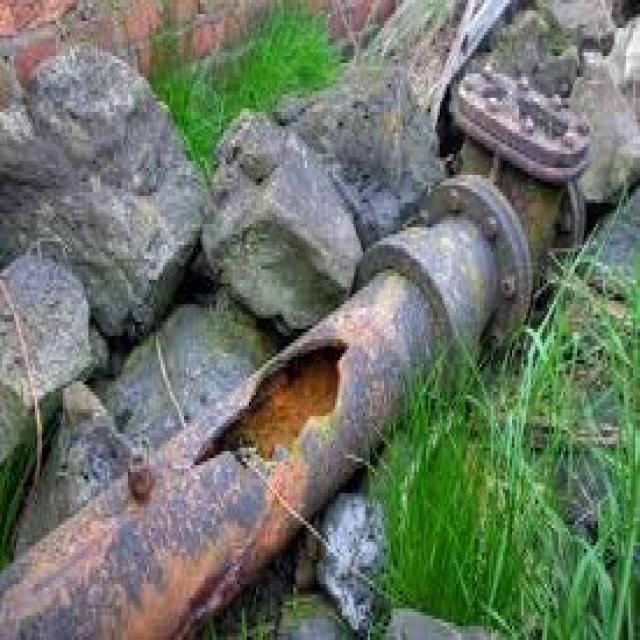hole: (193, 344, 347, 466)
